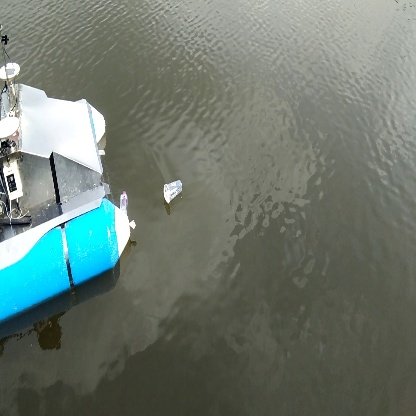bottle: (159, 175, 186, 207)
